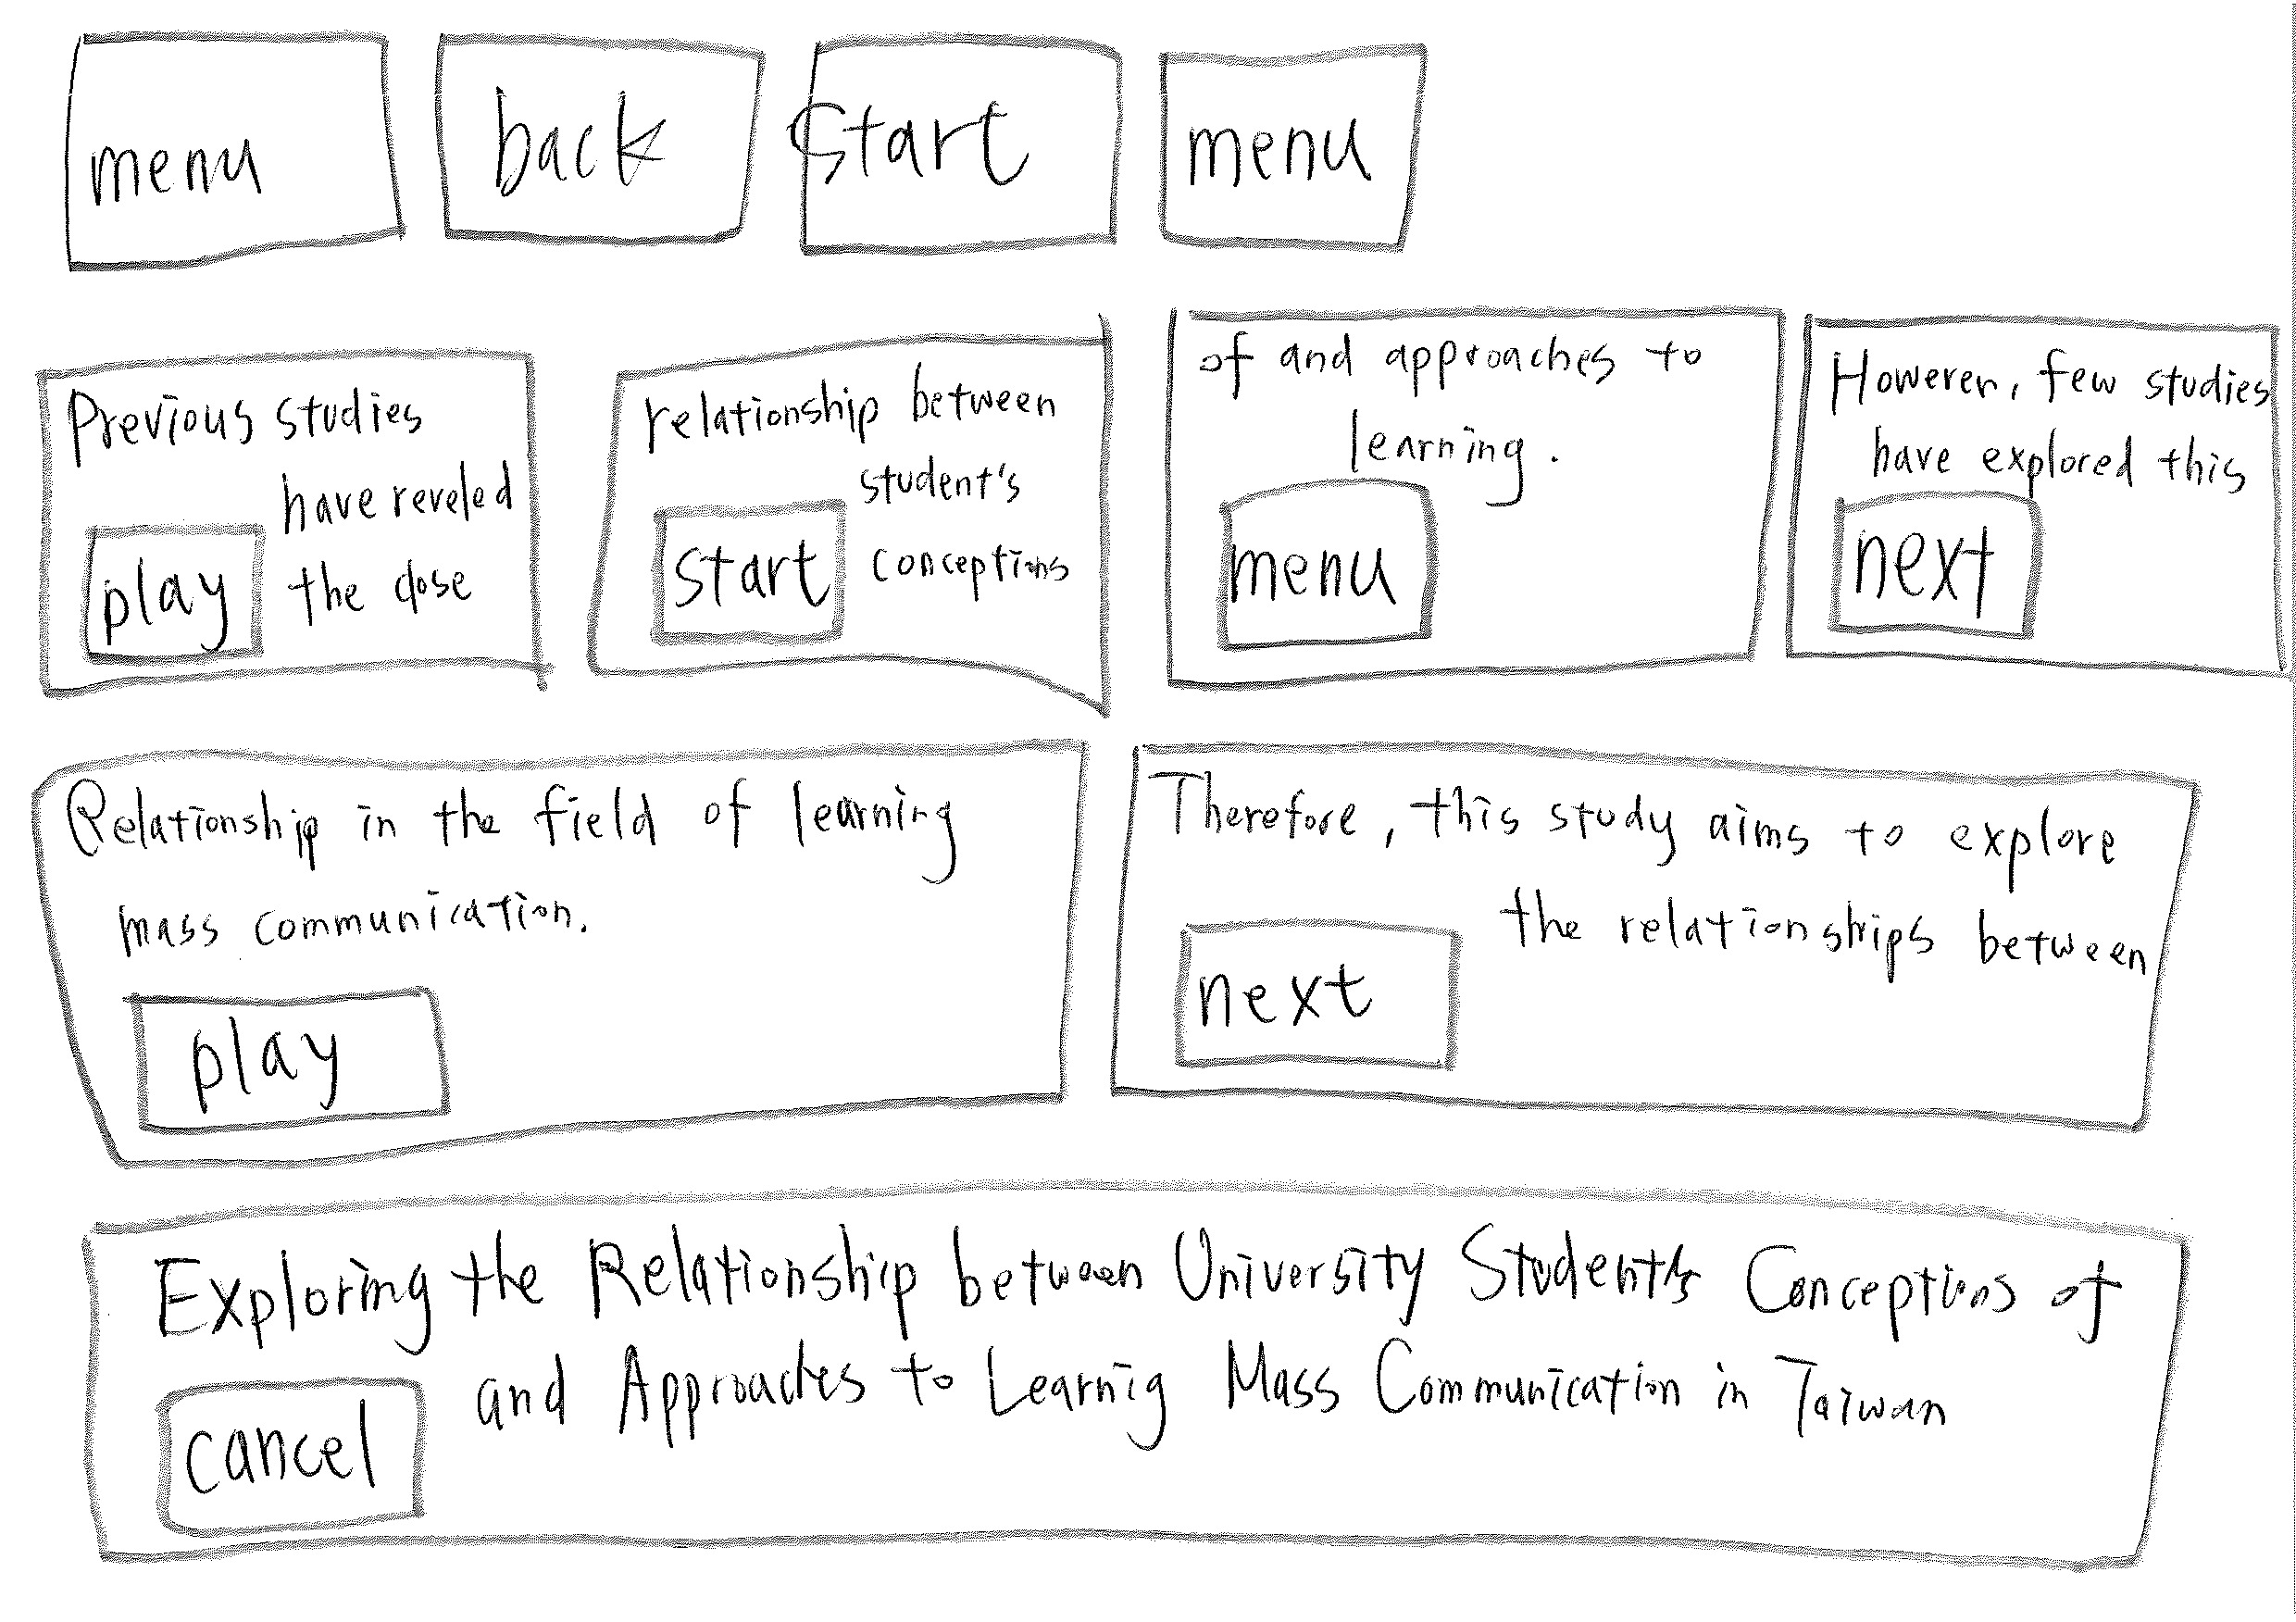back: (420, 18, 786, 293)
cancel: (123, 1359, 455, 1547)
double: (1102, 714, 2245, 1155), (2, 730, 1085, 1153)
menu: (37, 11, 425, 305), (1144, 21, 1446, 276), (1208, 465, 1450, 664)
next: (1144, 883, 1489, 1083), (1803, 479, 2057, 655)
play: (84, 969, 474, 1139), (61, 504, 269, 678)
quadruple: (1144, 300, 1808, 721), (19, 316, 581, 736), (588, 297, 1150, 716), (1782, 293, 2296, 681)
row: (2, 1153, 2296, 1622), (2, 713, 2294, 1180), (2, 297, 2296, 720), (19, 5, 2296, 284)
single: (39, 1160, 2226, 1608)
small-title: (151, 1232, 2108, 1341), (1152, 765, 2120, 871), (61, 778, 1034, 874), (1187, 325, 1741, 404), (1831, 330, 2259, 425), (641, 374, 1065, 434), (61, 386, 451, 444)
start: (774, 9, 1155, 286), (635, 492, 867, 658)
text: (477, 1345, 1971, 1457), (1467, 871, 2129, 983), (109, 885, 611, 953), (295, 470, 516, 625), (865, 460, 1058, 597), (1871, 420, 2254, 486), (1360, 411, 1510, 470)
